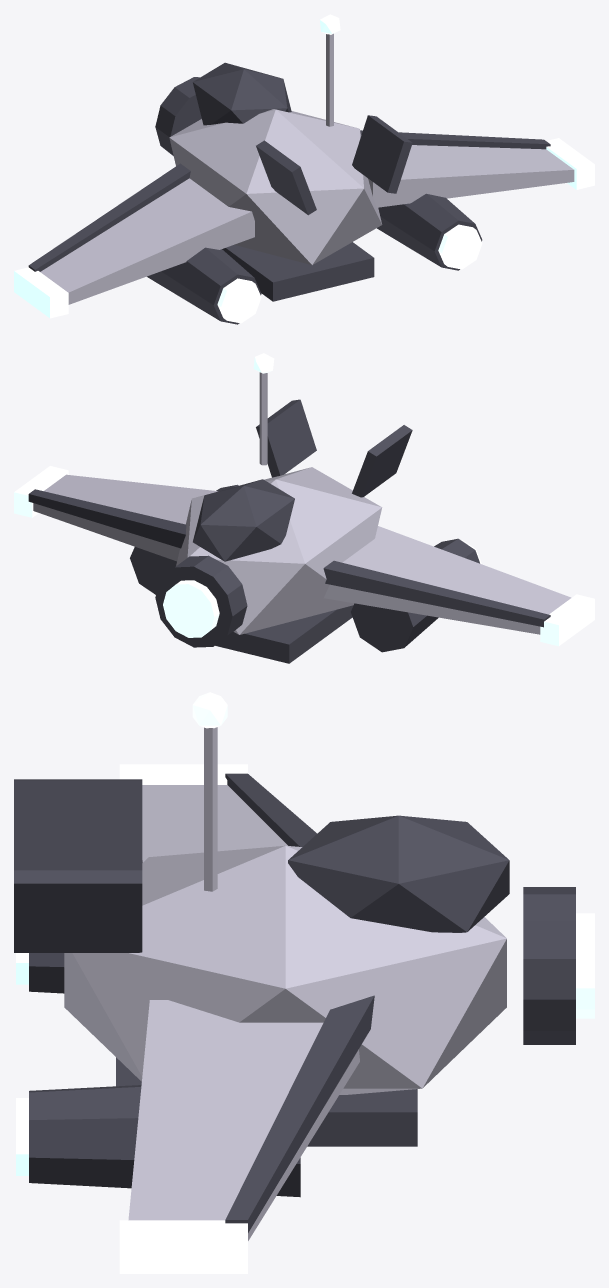
File: drone.glb
The picture shows the model from 3 angles, top to bottom: view 1: azimuth 30°, elevation 25°; view 2: azimuth 150°, elevation 25°; view 3: azimuth 270°, elevation 25°; orthographic projection. The views are drawn at different scales.
Parts seen in each view (by area): view 1: Drone; view 2: Drone; view 3: Drone.
Boxes of the visible parts, box(x1,y1,x2,y2) form: Drone: box(14, 14, 594, 324); Drone: box(14, 353, 594, 663); Drone: box(14, 692, 594, 1273).
Bounding box in the file's own units: 2.96 × 1.29 × 1.54.
